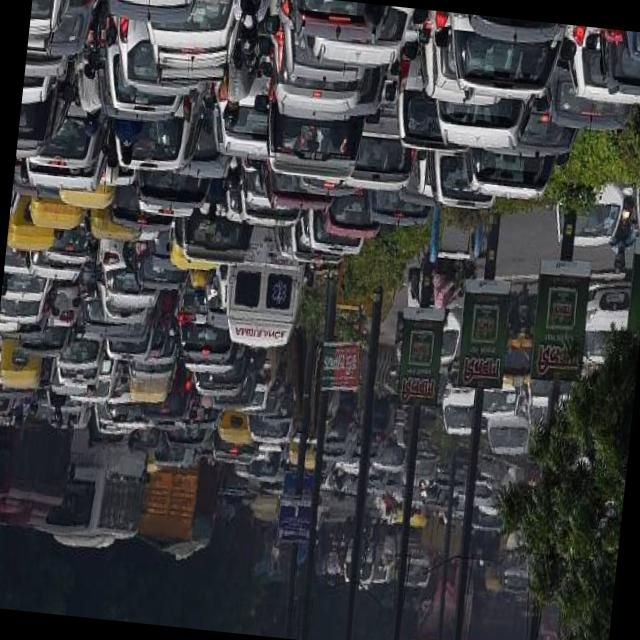ambulance: (230, 270, 295, 348)
